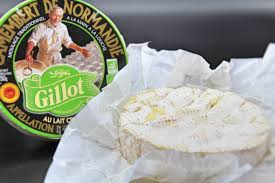camembert: (117, 86, 271, 176)
